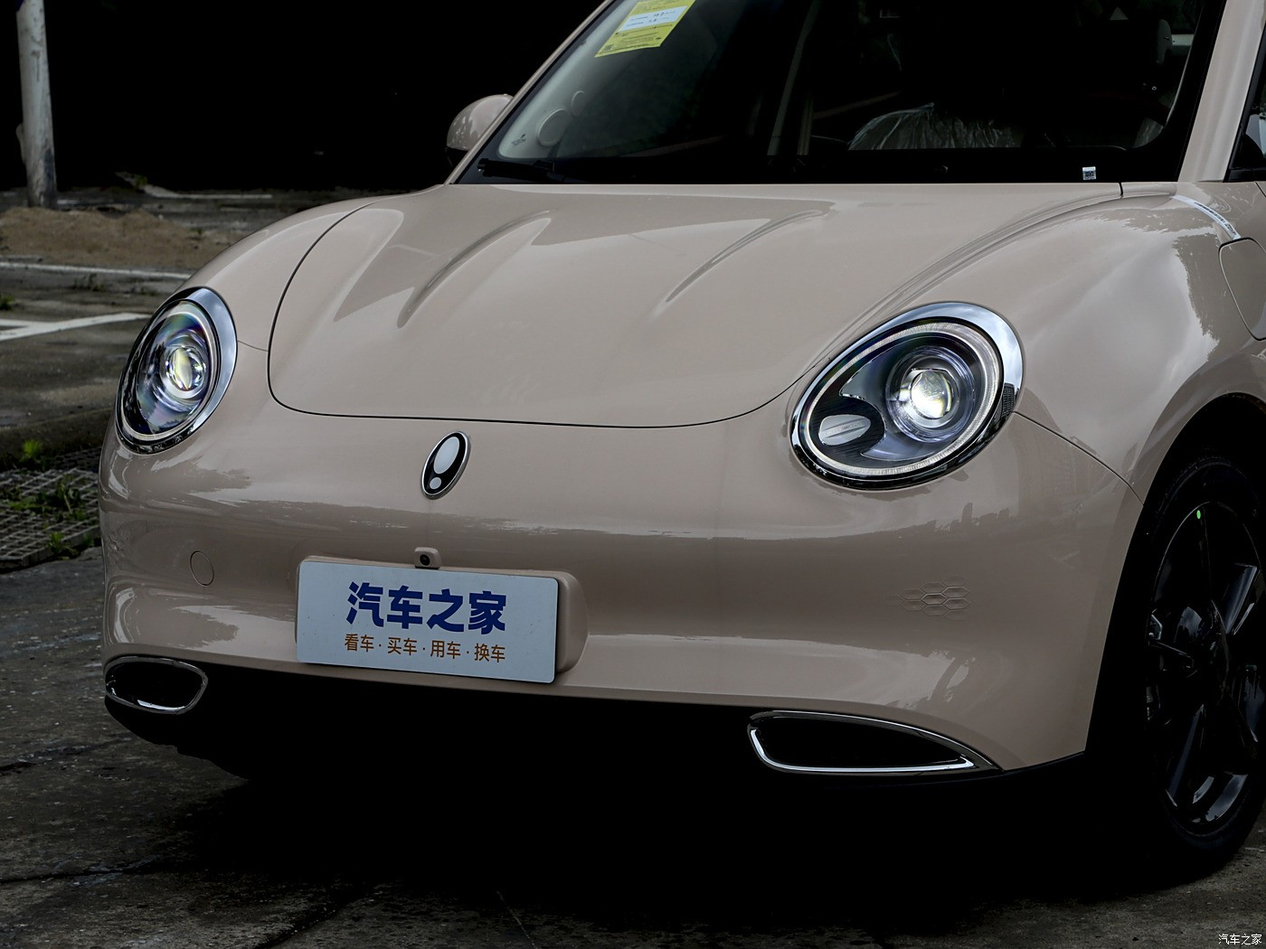ORA: (422, 433, 468, 500)
